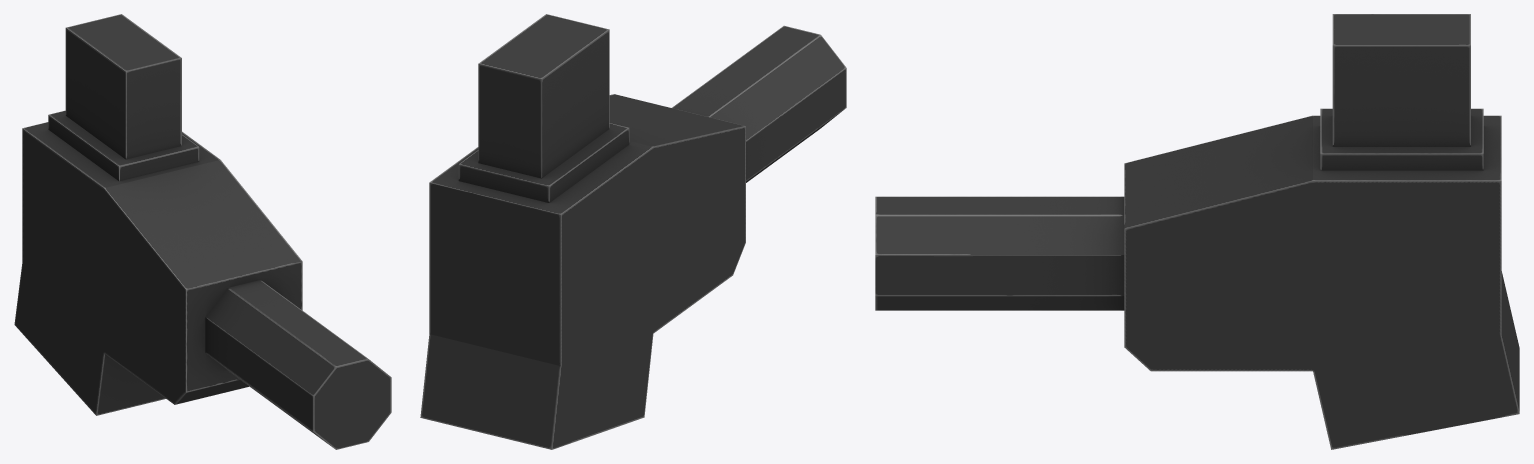
The model's file is playerrocket.glb.
3 views of the same model, side by side, from view 1: azimuth 30°, elevation 25°; view 2: azimuth 150°, elevation 25°; view 3: azimuth 270°, elevation 25° (orthographic). The views are drawn at different scales.
Visible parts, largest first — view 1: Cube.002; view 2: Cube.002; view 3: Cube.002.
Boxes of the visible parts, left/top/right/bottom form: Cube.002: left=14, top=14, right=391, bottom=449; Cube.002: left=420, top=14, right=846, bottom=449; Cube.002: left=875, top=14, right=1519, bottom=449.
Size of the model in its own units: 0.6312 by 1.74 by 2.63.
Materials: 1 (1 with a texture image).
